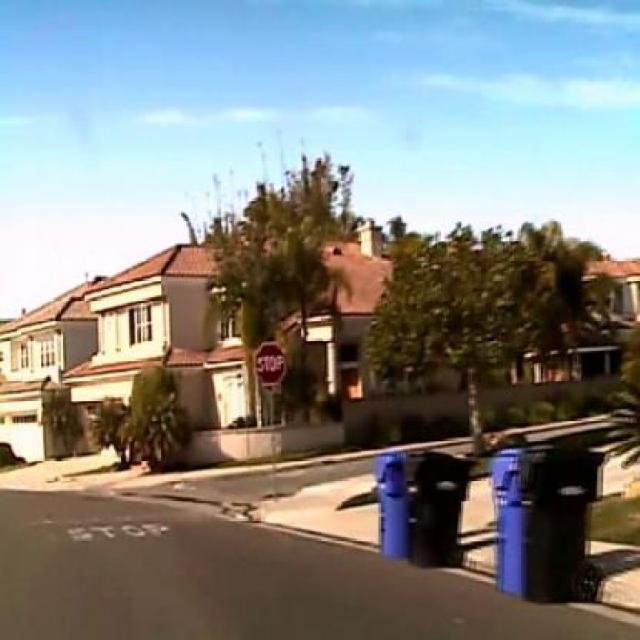Stop: (254, 341, 288, 388)
